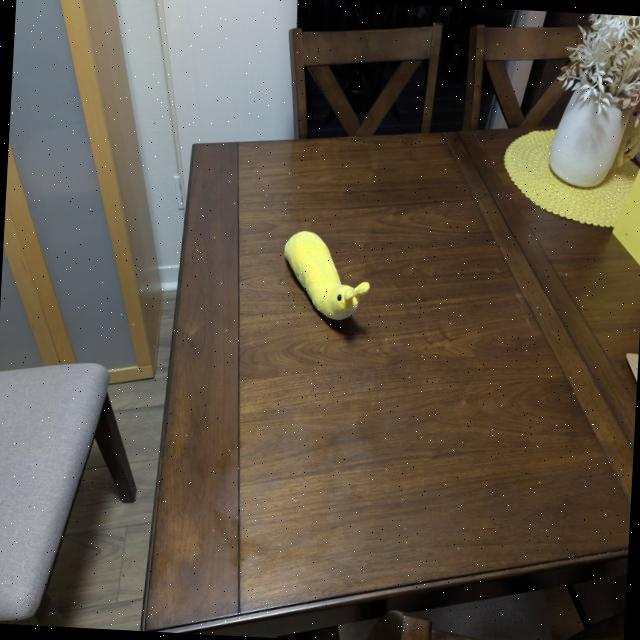banana-slug-toy: (271, 218, 376, 334)
